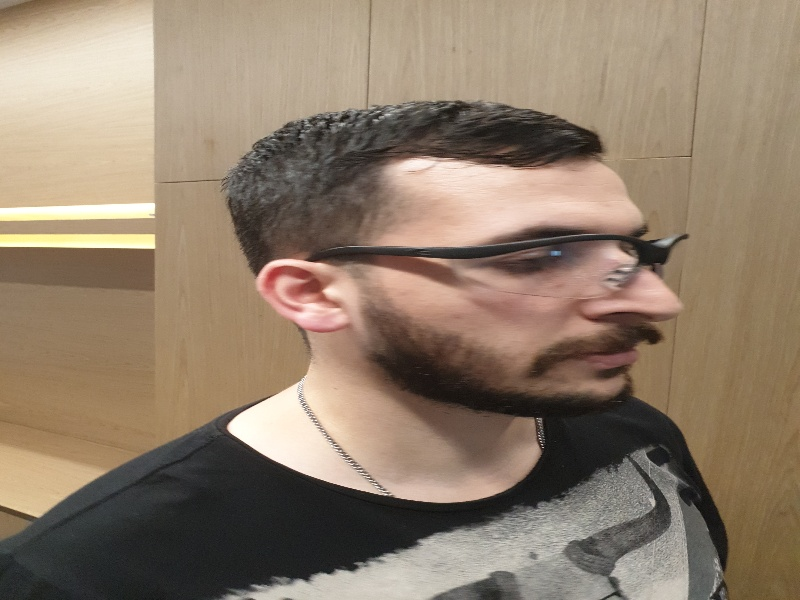Gozluk: (300, 235, 691, 298)
